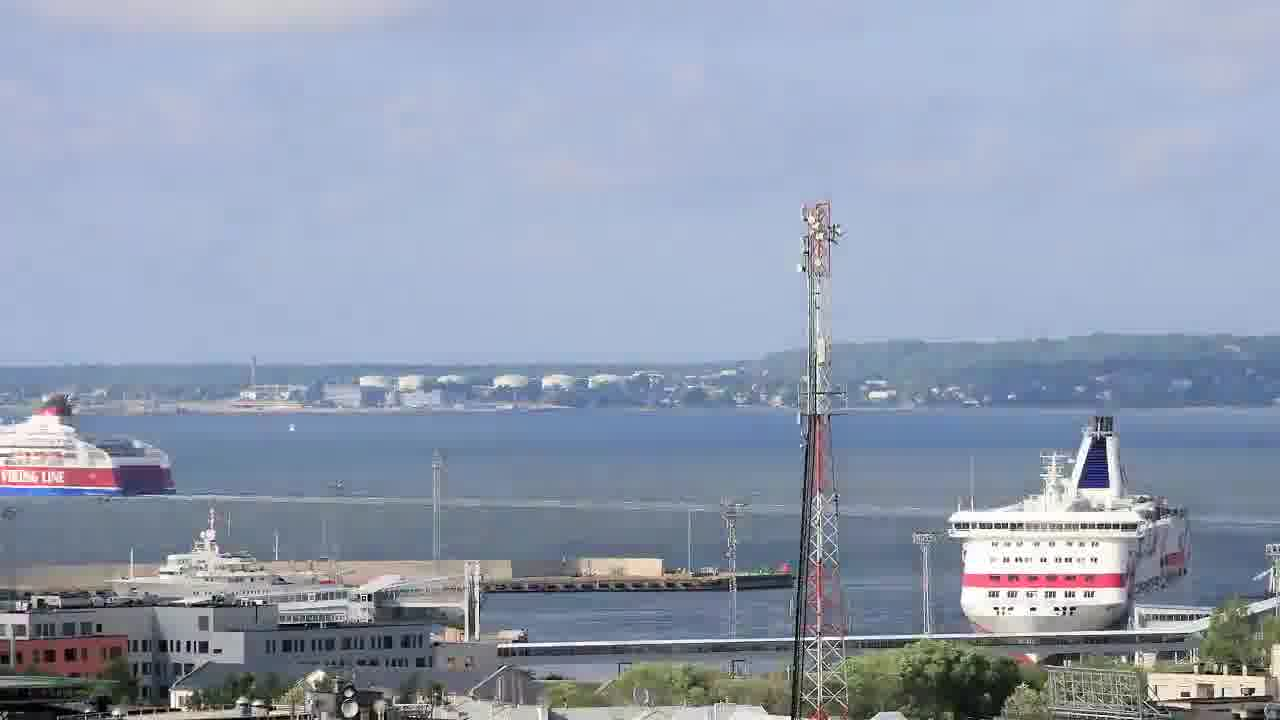type-3: (949, 415, 1189, 638), (89, 518, 402, 620), (0, 381, 180, 504)
